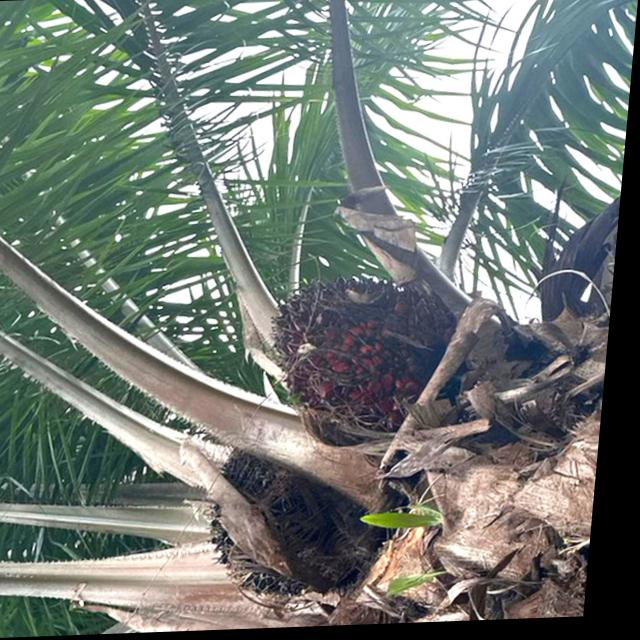ripe: (249, 254, 467, 468)
